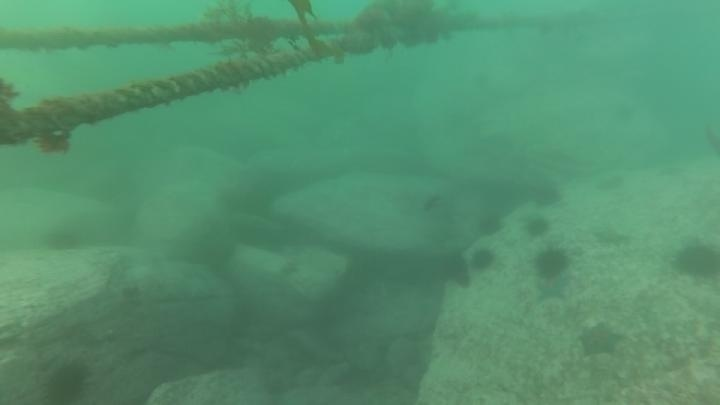echinus: (41, 358, 92, 405), (671, 238, 720, 282), (436, 249, 474, 290), (532, 245, 572, 281), (41, 223, 85, 255), (528, 180, 564, 211), (474, 210, 506, 239), (468, 245, 498, 274), (522, 213, 552, 241)
starfish: (576, 320, 625, 360), (532, 273, 572, 305), (590, 222, 632, 249)
